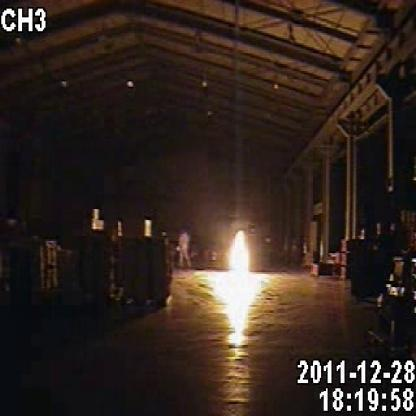fire: (181, 202, 281, 371)
